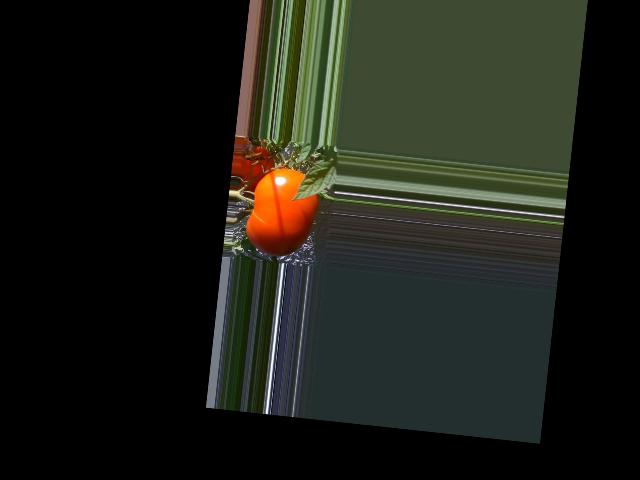tomato: (243, 164, 322, 259)
